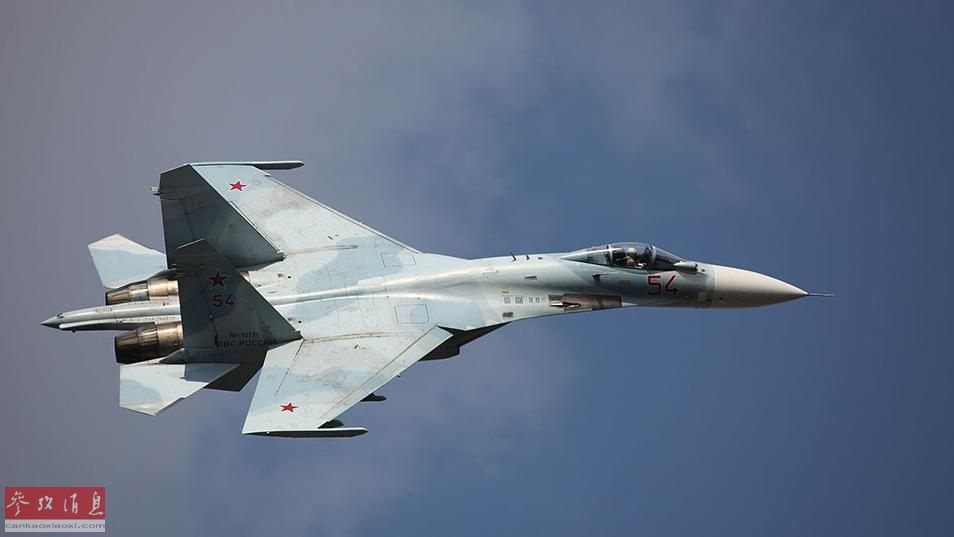airplane: (22, 156, 828, 440)
